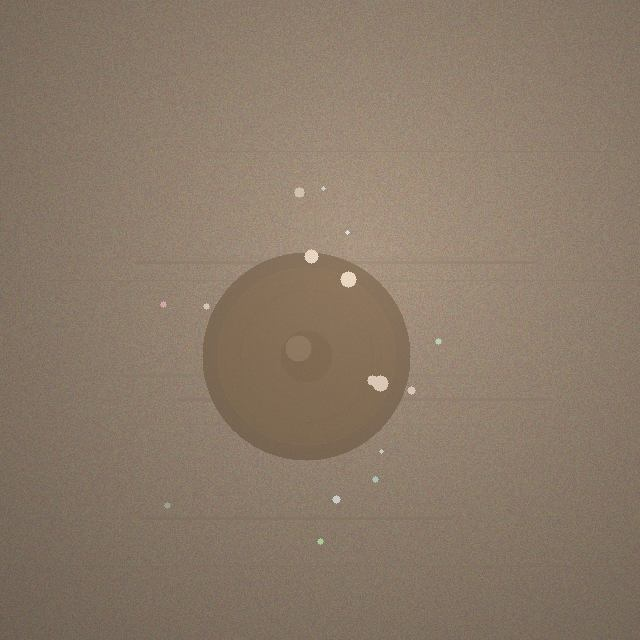overburn: (202, 252, 410, 460)
